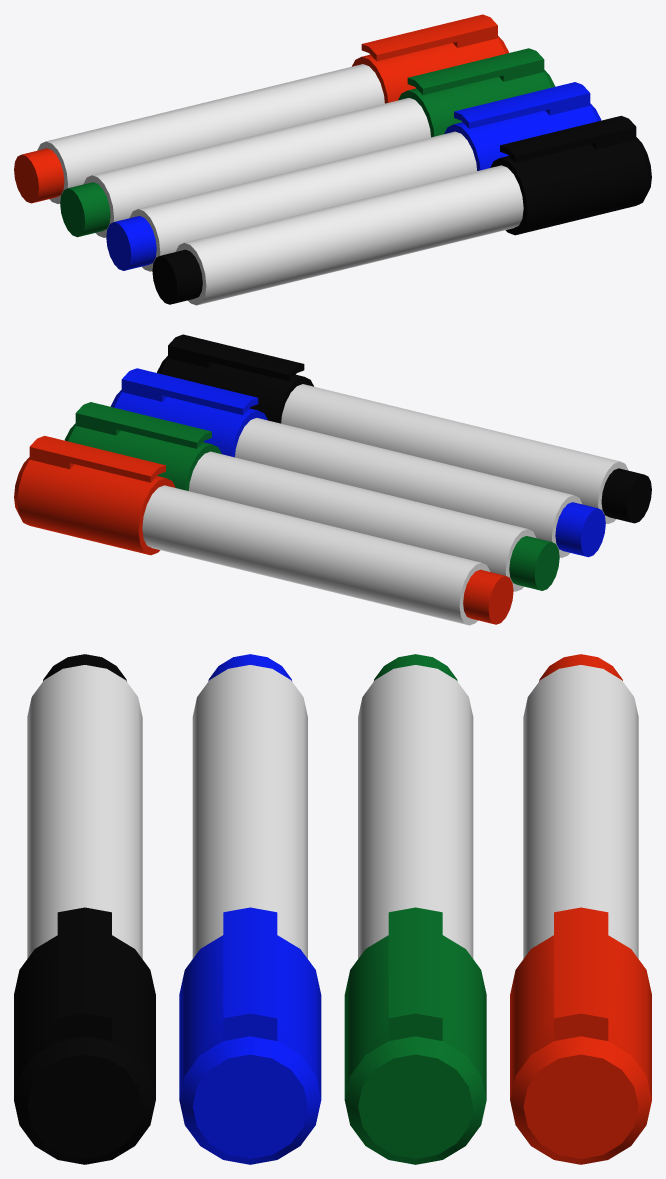
Rendered from Sharpies_nib_v01.fbx.
3 renders of one model, top to bottom at view 1: azimuth 30°, elevation 25°; view 2: azimuth 150°, elevation 25°; view 3: azimuth 270°, elevation 25°, orthographic. The views are drawn at different scales.
Visible parts, largest first — view 1: Black Sharpie, Green sharpie, Blue Sharpie, Red Sharpiee; view 2: Red Sharpiee, Blue Sharpie, Black Sharpie, Green sharpie; view 3: Blue Sharpie, Green sharpie, Black Sharpie, Red Sharpiee.
Boxes of the visible parts, <box> form: Black Sharpie: <box>152,115,651,305</box>; Green sharpie: <box>60,48,555,237</box>; Blue Sharpie: <box>106,82,601,271</box>; Red Sharpiee: <box>14,14,508,203</box>; Red Sharpiee: <box>14,435,513,625</box>; Blue Sharpie: <box>110,368,605,557</box>; Black Sharpie: <box>157,334,651,523</box>; Green sharpie: <box>64,402,559,591</box>; Blue Sharpie: <box>179,654,321,1164</box>; Green sharpie: <box>344,654,486,1164</box>; Black Sharpie: <box>14,654,155,1164</box>; Red Sharpiee: <box>510,654,651,1164</box>.
Size of the model in its own units: 7.12 by 1.22 by 4.66.
